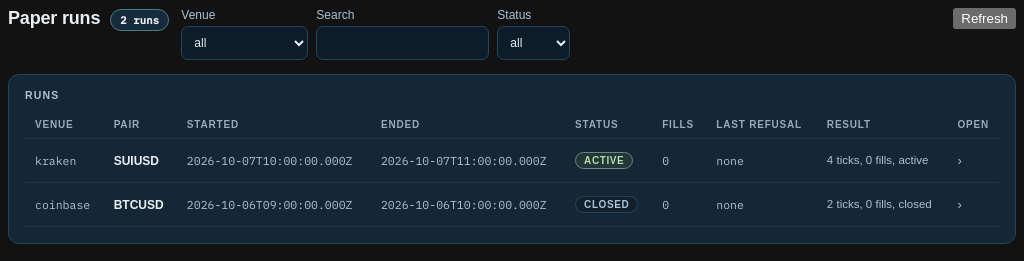
Test case: LastRunsPanel — filter selections vs history refresh › keeps a selected venue applied and selectable when refresh removes its last run
This screenshot has width=1024, height=261.
Expected: the table with test id "paper-last-runs-table" is shown, [25,111,999,227]
Select "Venue: kraken" in the dropdown named "Filter runs by venue": (245,43) [181,26,308,60]
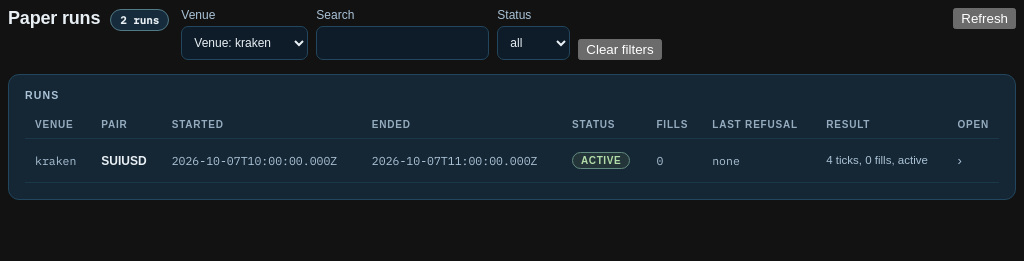
Expected: the number of rows named "Open run detail" is 1, [25,138,999,182]
Click the button with test id "paper-last-runs-refresh": (985,18) [953,8,1016,29]
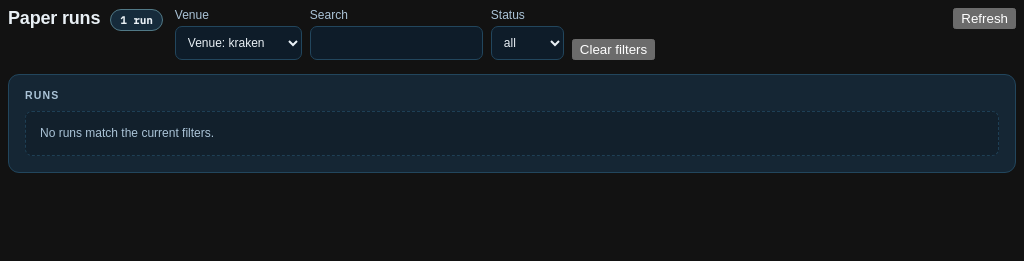
Result: the text with test id "paper-last-runs-count" reads "1 run" at [120,13,153,27]
Result: the text with test id "paper-last-runs-filter-empty" reads "No runs match the current filters." at [40,126,214,140]
